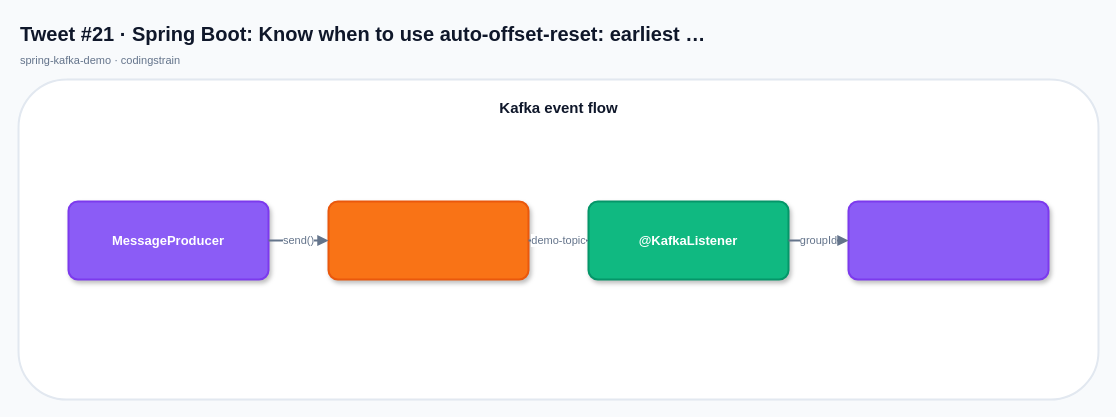
The diagram is 1116 pixels wide and 417 high, and some of its shapes have lost their labels. Each missing label, with the centre of its shape:
"Consumer logic" belongs at (x=949, y=241).
"Kafka Topic" belongs at (x=429, y=241).
